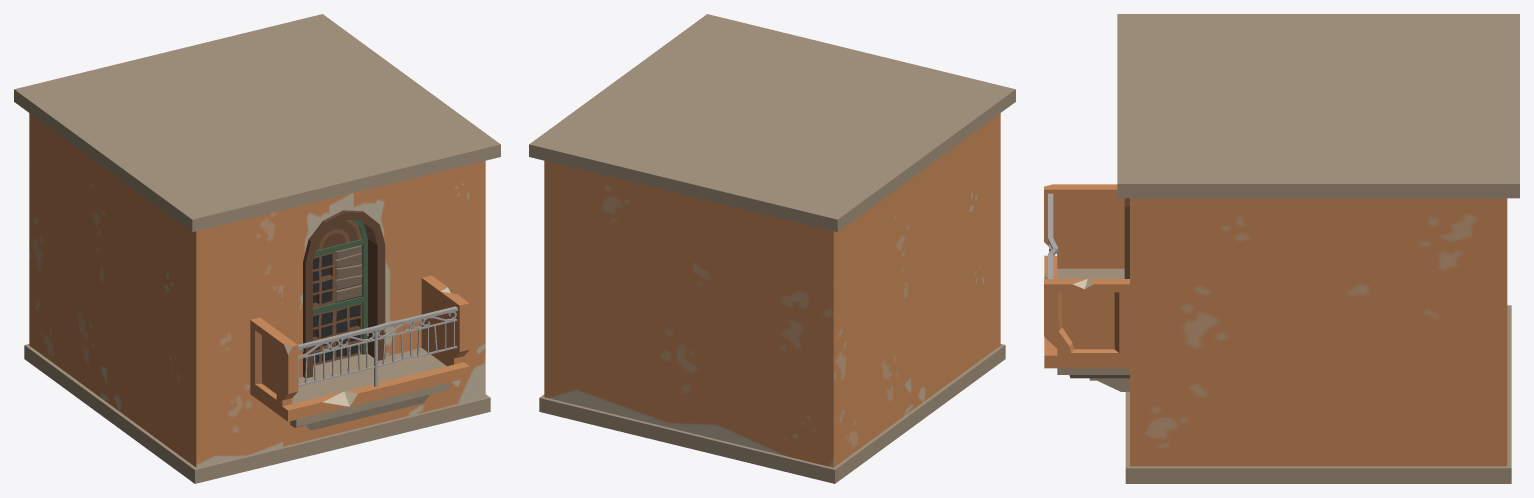
Rendered from SM_Bld_Cuba_Room_07.glb.
3 renders of one model, left to right at view 1: azimuth 30°, elevation 25°; view 2: azimuth 150°, elevation 25°; view 3: azimuth 270°, elevation 25°, orthographic. The views are drawn at different scales.
Parts seen in each view (by area): view 1: SM_Bld_Cuba_Room_07_part00; view 2: SM_Bld_Cuba_Room_07_part00; view 3: SM_Bld_Cuba_Room_07_part00.
Boxes of the visible parts, bbox=[...] form: SM_Bld_Cuba_Room_07_part00: bbox=[14, 14, 500, 483]; SM_Bld_Cuba_Room_07_part00: bbox=[529, 14, 1015, 483]; SM_Bld_Cuba_Room_07_part00: bbox=[1044, 14, 1519, 483].
Size of the model in its own units: 4 by 3.33 by 4.73.
Materials: 1 (1 with a texture image).
